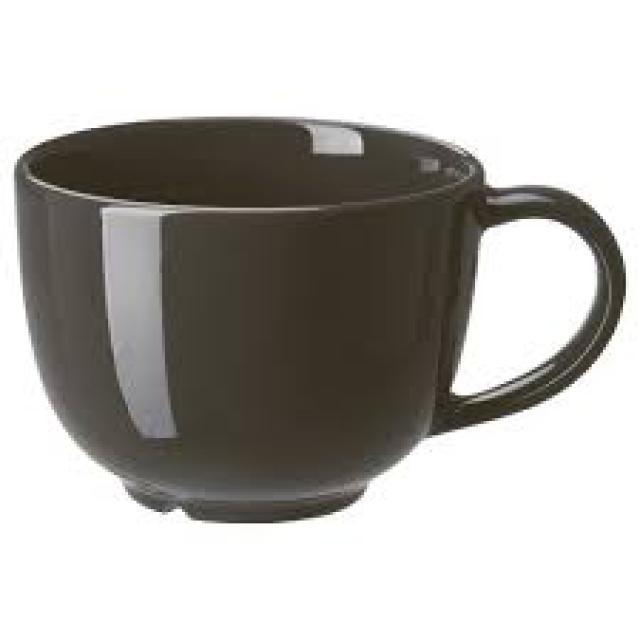taza: (16, 76, 628, 548)
